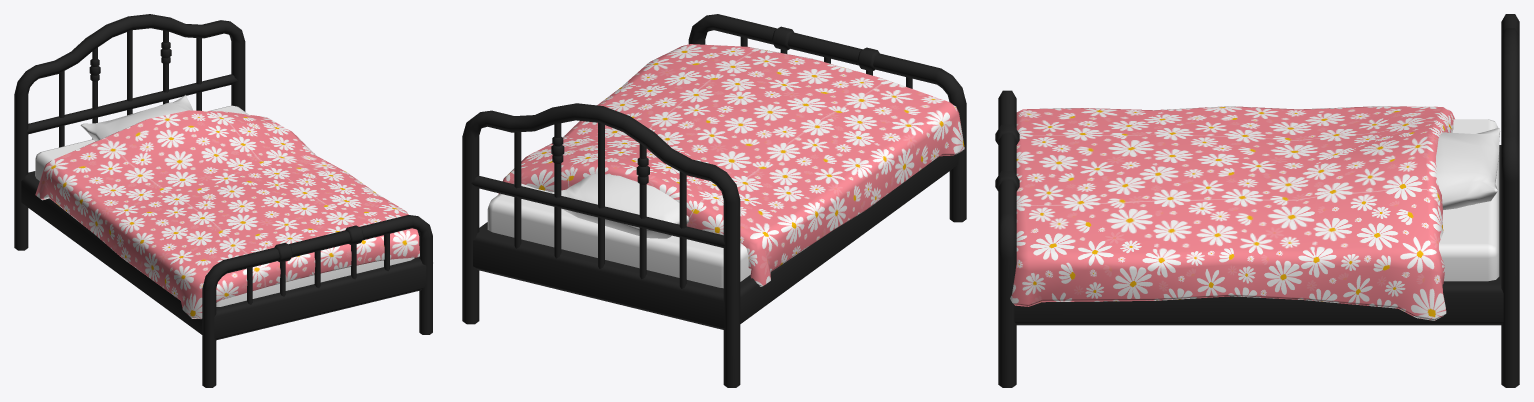
File: bed_009.fbx
The picture shows the model from 3 angles, left to right: view 1: azimuth 30°, elevation 25°; view 2: azimuth 150°, elevation 25°; view 3: azimuth 270°, elevation 25°; orthographic projection. The views are drawn at different scales.
Visible parts, largest first — view 1: bed_009; view 2: bed_009; view 3: bed_009.
Part boxes in pixels (bbox=[...]): bed_009: bbox=[14, 14, 433, 387]; bed_009: bbox=[462, 14, 966, 387]; bed_009: bbox=[995, 14, 1519, 387].
Size of the model in its own units: 157 by 219 by 126.
